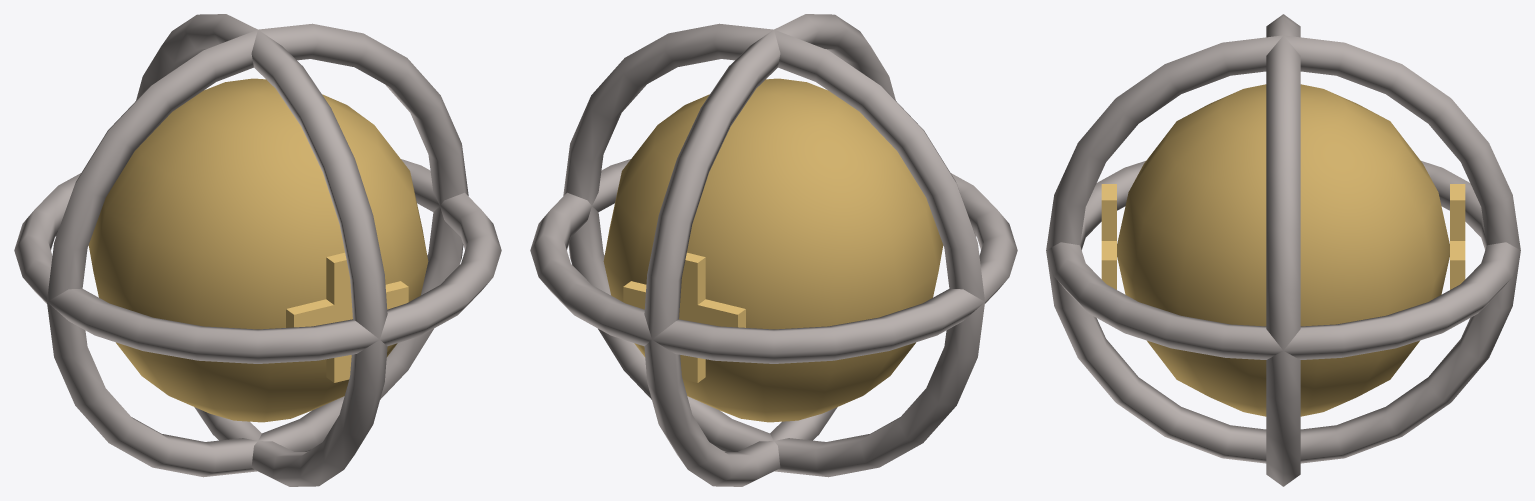
File: pickup_orb.glb
3 views of the same model, side by side, from view 1: azimuth 30°, elevation 25°; view 2: azimuth 150°, elevation 25°; view 3: azimuth 270°, elevation 25° (orthographic). The views are drawn at different scales.
Visible parts, largest first — view 1: glow*0.6, girder*1.4, girder*1.002, girder*1.001, glow*0.001, glow*0.9; view 2: glow*0.6, girder*1.4, girder*1.002, girder*1.001, glow*0.003, glow*0.002; view 3: glow*0.6, girder*1.002, girder*1.001, girder*1.4, glow*0.001, glow*0.003, glow*0.002, glow*0.9.
Part boxes in pixels (x1,y1,x2,y2): glow*0.6: (88, 78, 428, 422); girder*1.4: (47, 23, 468, 477); girder*1.002: (136, 14, 387, 486); girder*1.001: (14, 159, 501, 363); glow*0.001: (326, 252, 352, 382); glow*0.9: (286, 281, 408, 327); glow*0.6: (603, 78, 943, 422); girder*1.4: (563, 23, 984, 477); girder*1.002: (644, 14, 895, 486); girder*1.001: (530, 159, 1017, 363); glow*0.003: (679, 252, 705, 382); glow*0.002: (623, 281, 745, 327); glow*0.6: (1117, 84, 1449, 416); girder*1.002: (1046, 35, 1520, 463); girder*1.001: (1046, 161, 1520, 359); girder*1.4: (1266, 14, 1300, 486); glow*0.001: (1101, 184, 1116, 240); glow*0.003: (1450, 184, 1465, 240); glow*0.002: (1450, 241, 1465, 289); glow*0.9: (1101, 241, 1116, 289).
Size of the model in its own units: 0.368 by 0.368 by 0.368.
